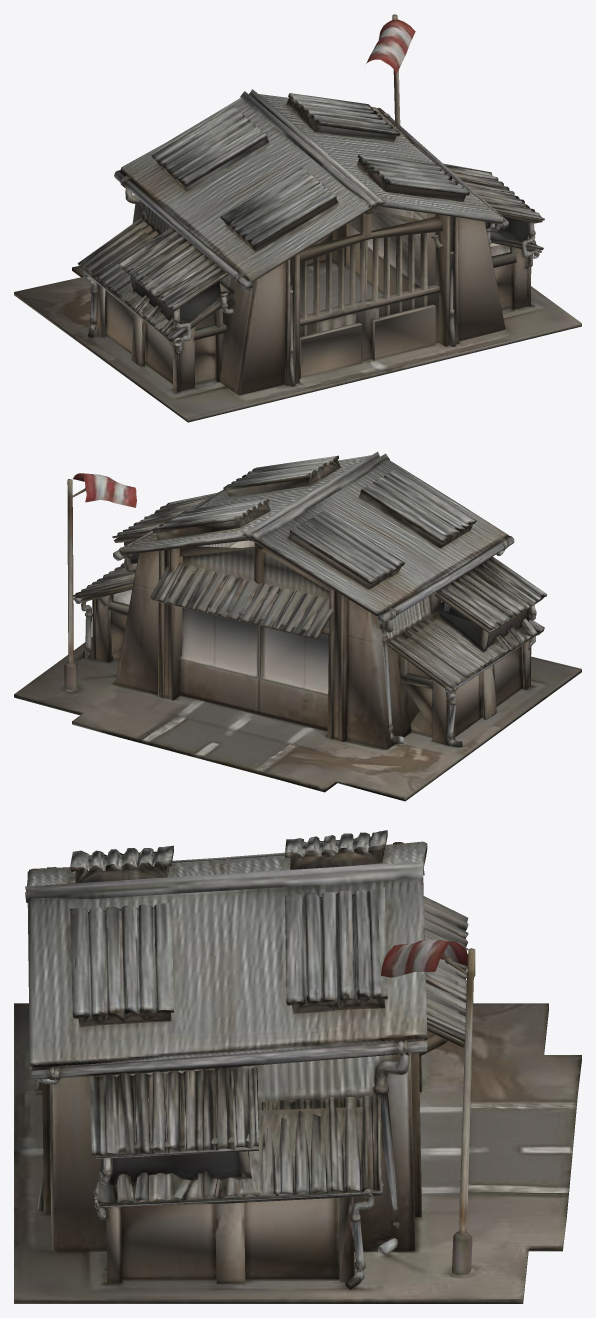
File: airfield.glb
3 renders of one model, top to bottom at view 1: azimuth 30°, elevation 25°; view 2: azimuth 150°, elevation 25°; view 3: azimuth 270°, elevation 25°, orthographic. The views are drawn at different scales.
Visible parts, largest first — view 1: Body; view 2: Body; view 3: Body.
Boxes of the visible parts, x1=… form: Body: x1=14, y1=14, x2=581, y2=422; Body: x1=14, y1=451, x2=581, y2=801; Body: x1=14, y1=830, x2=581, y2=1303.
Bounding box in the file's own units: 13.33 × 6.91 × 10.83.
Materials: 1 (1 with a texture image).
